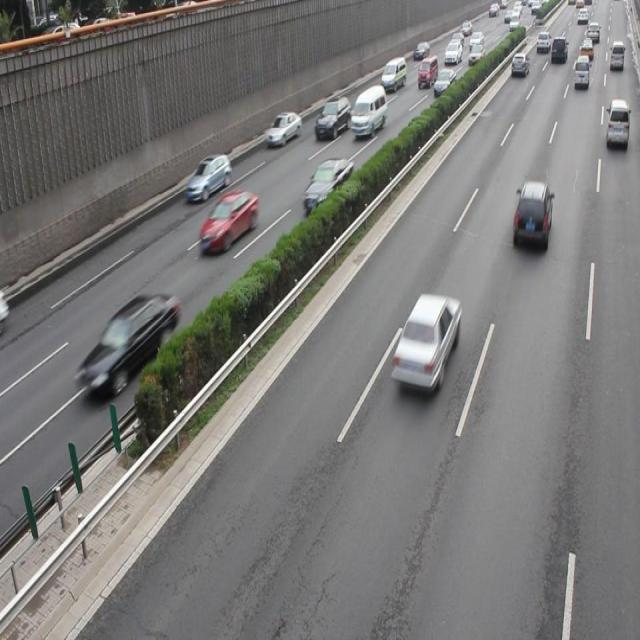car: (78, 292, 178, 394), (390, 292, 459, 388), (198, 188, 258, 254), (511, 178, 551, 252), (302, 156, 353, 213), (185, 153, 231, 201), (314, 94, 351, 138), (265, 109, 301, 146)
truck: (350, 85, 386, 137), (605, 100, 628, 146)
